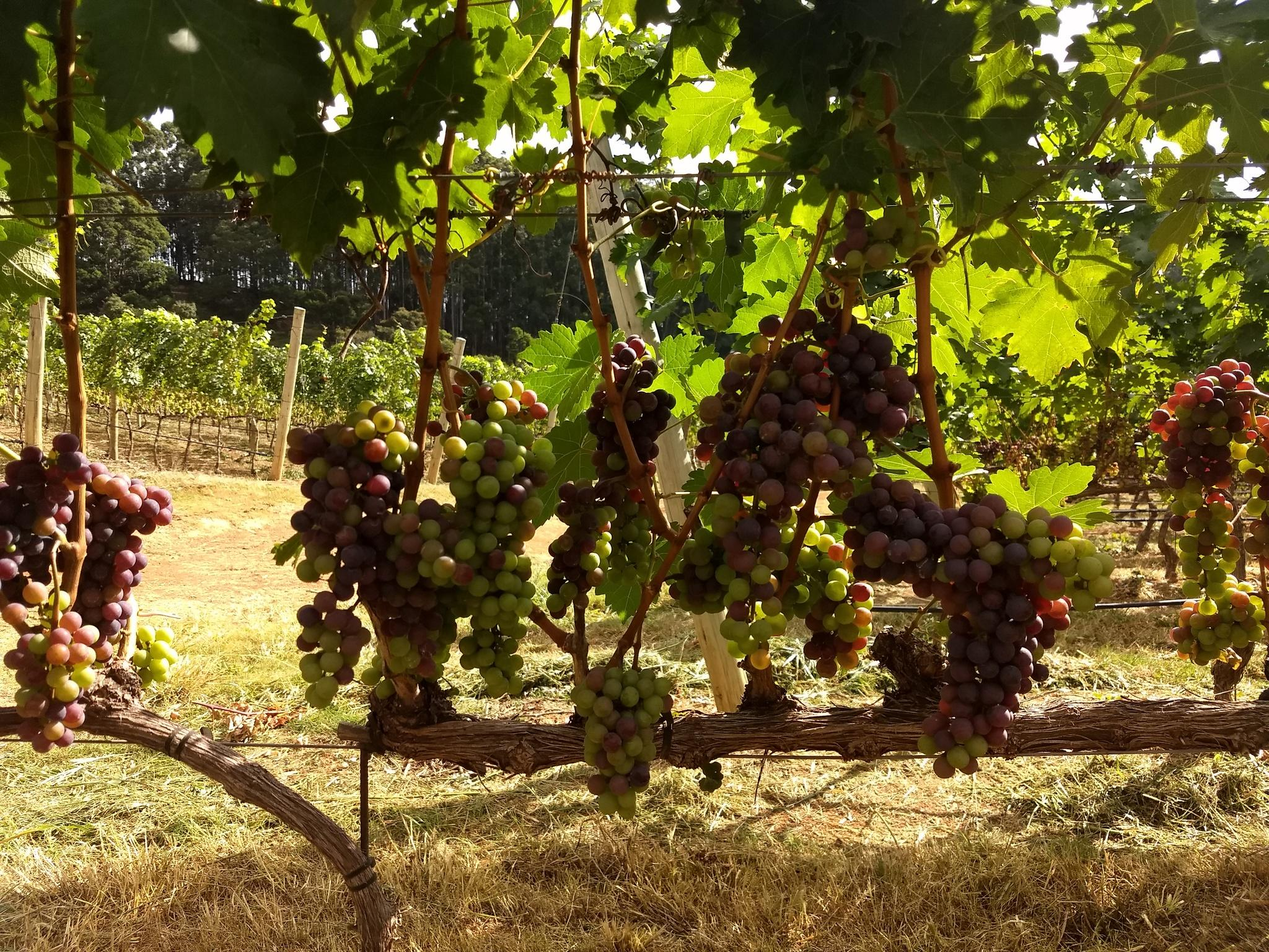Grape Unripe: (444, 369, 556, 695), (354, 498, 474, 699), (669, 493, 802, 669), (1148, 357, 1240, 597), (570, 663, 673, 818), (793, 520, 874, 677), (7, 617, 96, 751), (546, 478, 611, 619), (296, 591, 365, 711), (1172, 592, 1266, 664), (833, 205, 929, 268), (133, 623, 177, 685)
